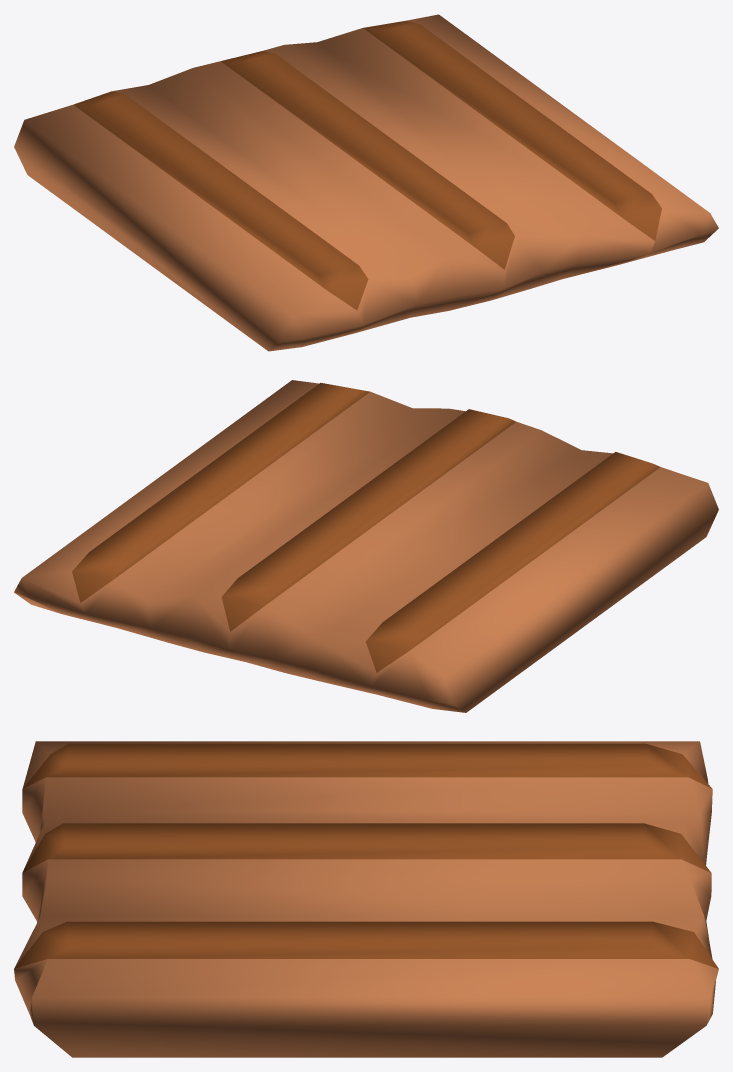
The model's file is UnwateredGardenPlot.fbx.
3 renders of one model, top to bottom at view 1: azimuth 30°, elevation 25°; view 2: azimuth 150°, elevation 25°; view 3: azimuth 270°, elevation 25°, orthographic. The views are drawn at different scales.
Visible parts, largest first — view 1: Cube; view 2: Cube; view 3: Cube.
Part boxes in pixels (box(x1,y1,x2,y2)): Cube: box(14, 14, 718, 351); Cube: box(14, 380, 718, 712); Cube: box(14, 741, 718, 1057).
Size of the model in its own units: 108 by 16.94 by 120.
